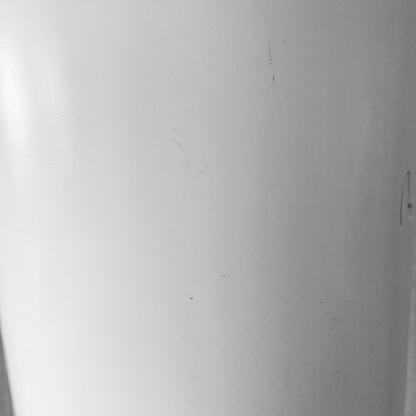fengxi: (396, 164, 416, 225)
